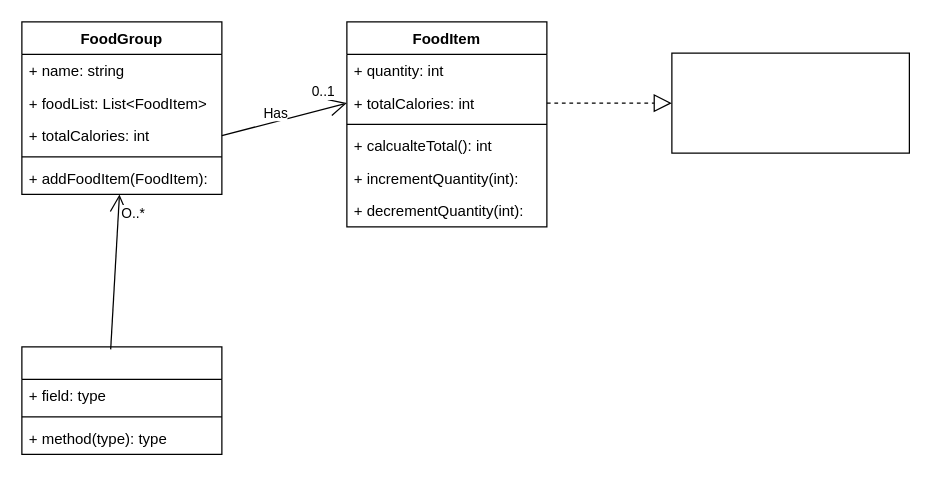
Some shapes in this 931 by 480 pixel diagram are drawn without their labels. The shapes that lost their labels are listed below. From the top down, each one's box as (x1, y1, x2, y2) in pixels, then its label:
(671, 52, 909, 153): <<Interface>> Food + name(string): string + calories(int): int
(21, 346, 222, 454): CalorieTracker
